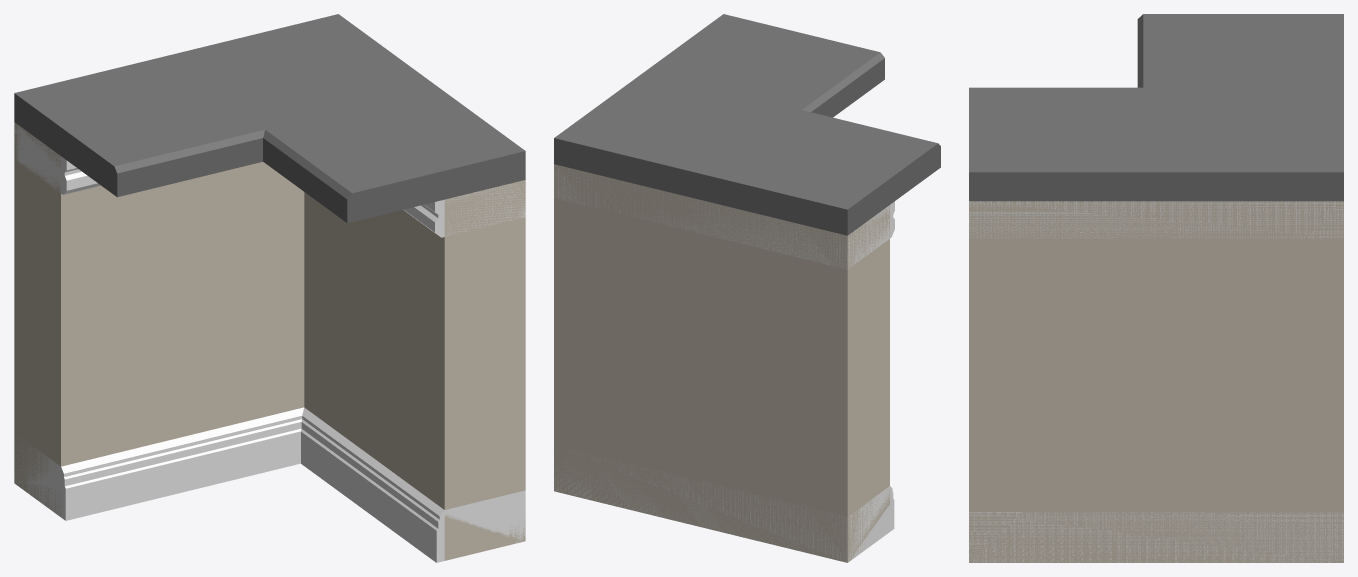
Rendered from Structure_Kitchen_Bar_Corner_Inner.obj.
The picture shows the model from 3 angles, left to right: view 1: azimuth 30°, elevation 25°; view 2: azimuth 150°, elevation 25°; view 3: azimuth 270°, elevation 25°; orthographic projection. The views are drawn at different scales.
Visible parts, largest first — view 1: object1, object2, object4, object3; view 2: object1, object2, object4, object3; view 3: object1, object2, object4, object3.
Boxes of the visible parts, x1,y1,x2,y2 form: object1: (14,123,525,560); object2: (14,14,525,223); object4: (14,407,525,562); object3: (14,122,525,237); object1: (554,164,889,562); object2: (554,14,940,235); object4: (554,448,894,562); object3: (554,164,894,268); object1: (969,201,1343,562); object2: (969,14,1343,201); object4: (969,512,1343,562); object3: (969,201,1343,238).
Bounding box in the file's own units: 1 × 1.15 × 1.
